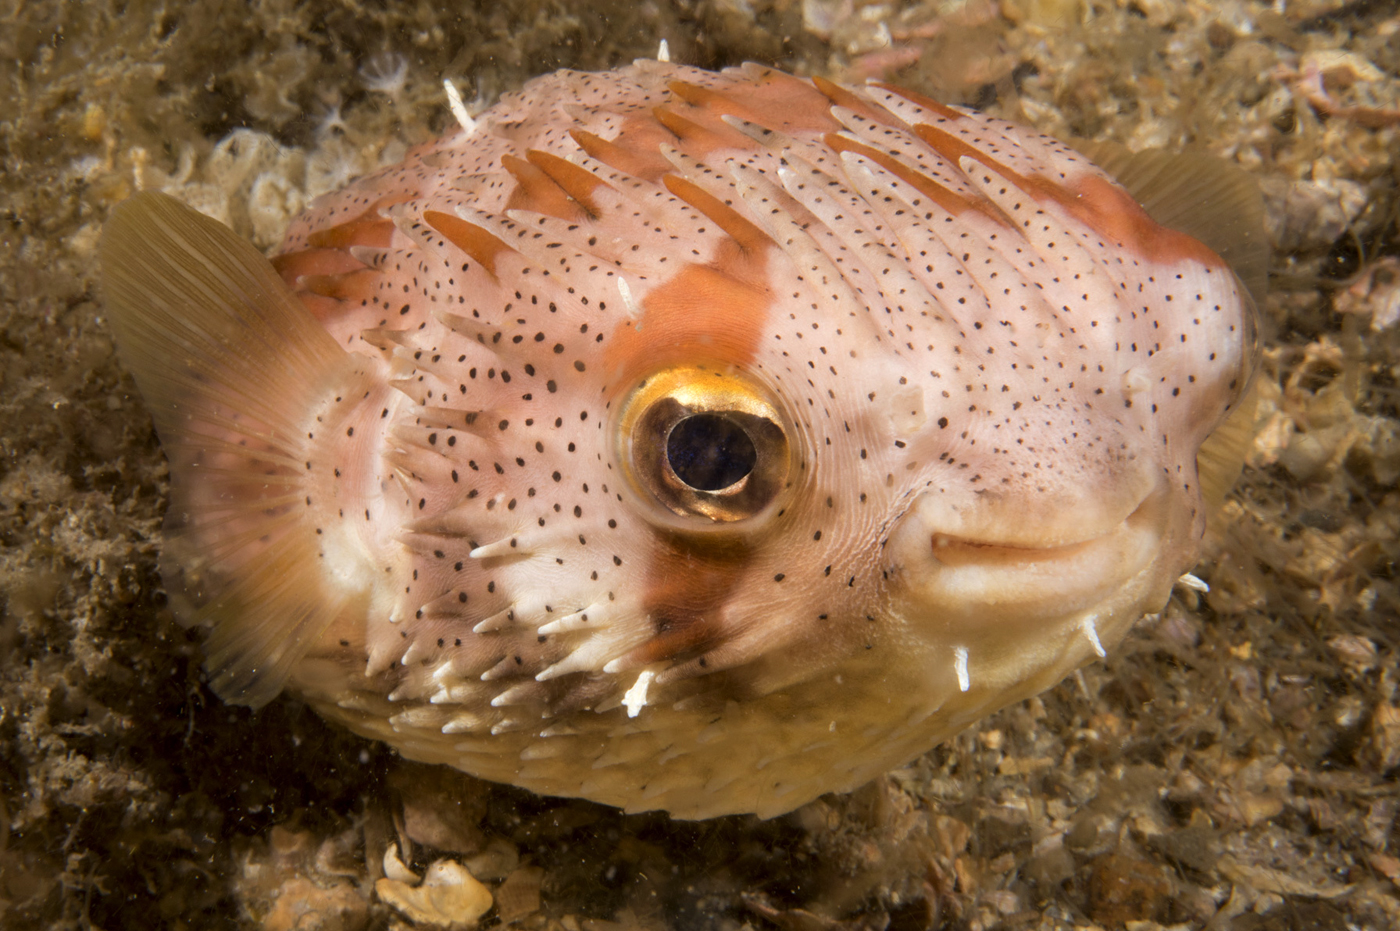Diodon_holocanthus: (93, 39, 1244, 857)
